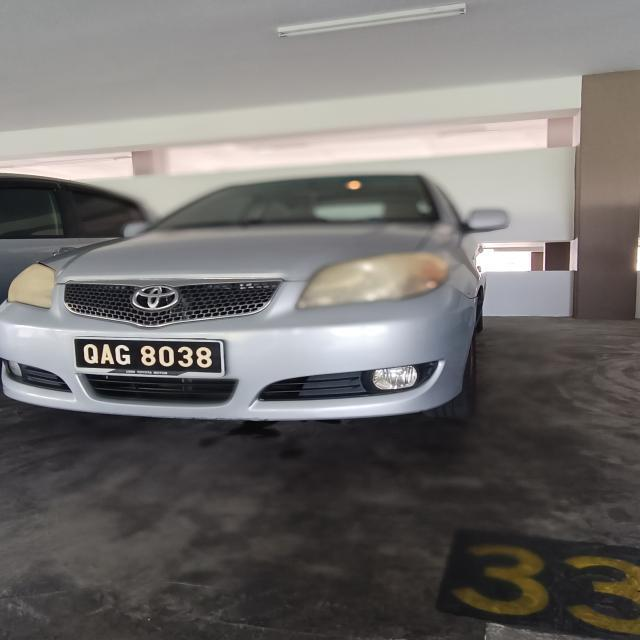ToyotaVios: (1, 172, 510, 424)
